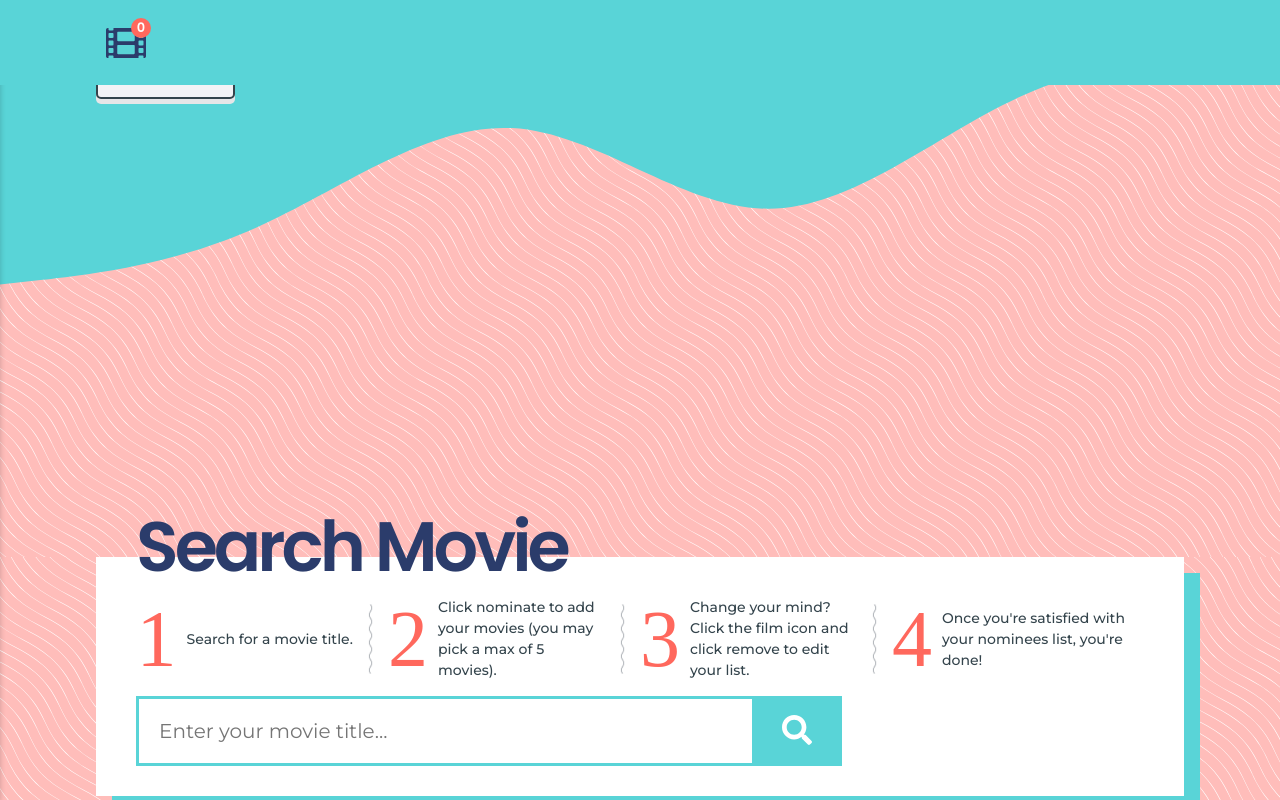
Scenario: App › no results flow
(page scrolled)
# types in string into searchbar
Type "hire me shopify" into the search field with placeholder "Enter your movie title..." at (489, 731), box [136, 696, 842, 766]
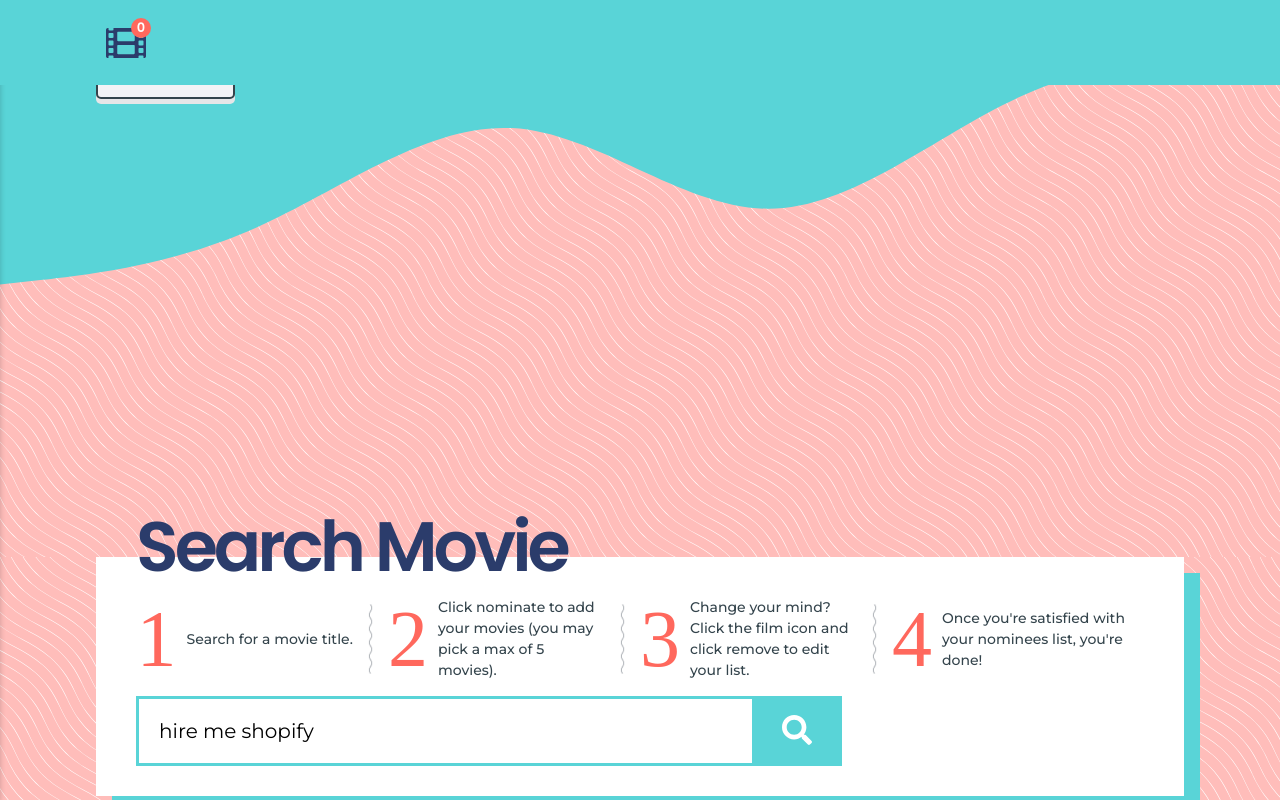
# user clicks search button
Click the button with test id "searchBtn" at (797, 731), box [752, 696, 842, 766]
(page scrolled)
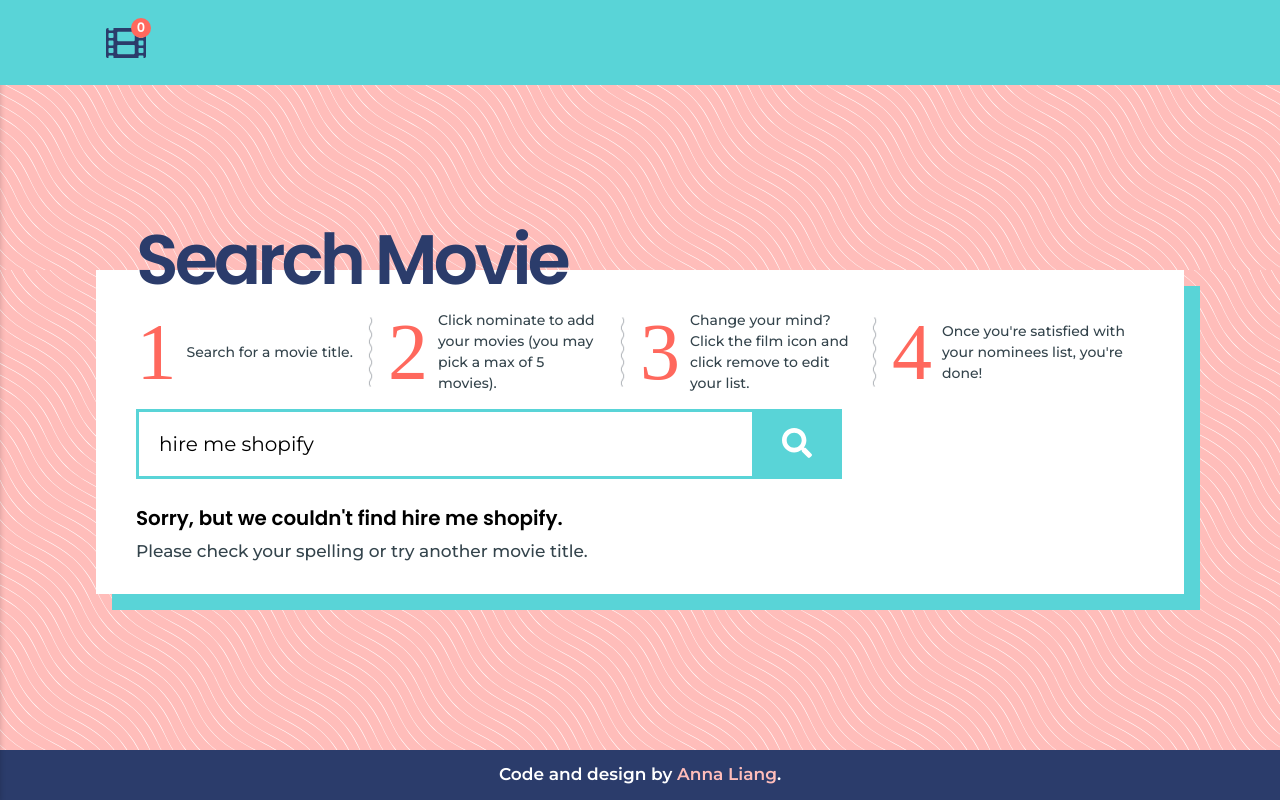
Check: the heading "Sorry, but we couldn't find hire me shopify." is shown, box [136, 504, 563, 532]
